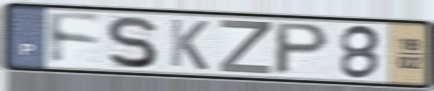8: (338, 23, 382, 81)
F: (45, 10, 105, 67)
K: (168, 17, 211, 73)
P: (271, 21, 333, 77)
S: (103, 14, 160, 70)
Z: (217, 18, 273, 76)
